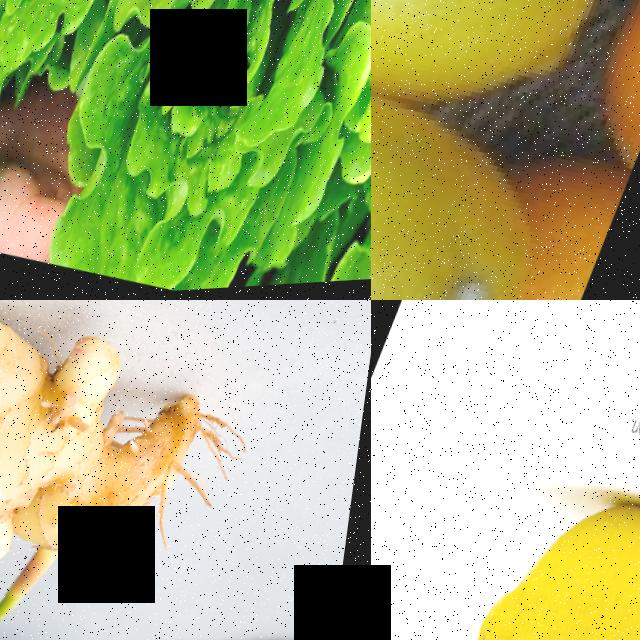ginger: (0, 300, 279, 616)
lemon: (371, 30, 606, 300), (371, 0, 640, 158), (418, 454, 640, 640)
lettuce: (18, 0, 371, 300), (0, 0, 159, 214)
